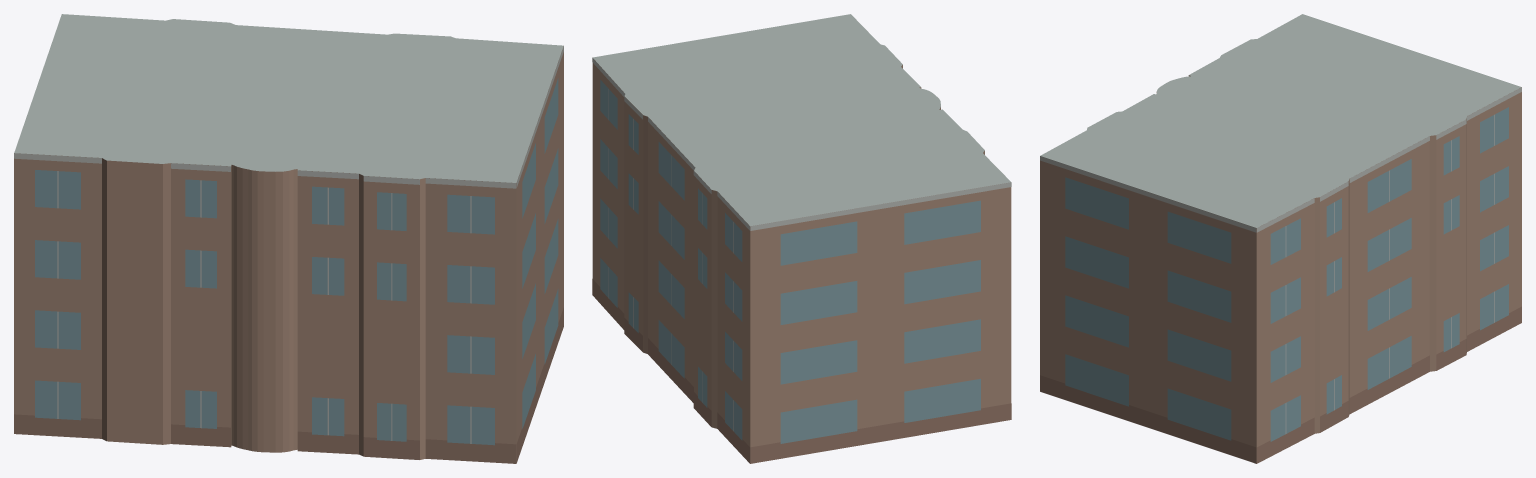
Rendered from survey-upis-32916860.glb.
3 renders of one model, left to right at view 1: azimuth 30°, elevation 25°; view 2: azimuth 150°, elevation 25°; view 3: azimuth 270°, elevation 25°, orthographic. The views are drawn at different scales.
Parts seen in each view (by area): view 1: survey-upis-32916860.tmp; view 2: survey-upis-32916860.tmp; view 3: survey-upis-32916860.tmp.
Part boxes in pixels (box(x1,y1,x2,y2)): survey-upis-32916860.tmp: box(14, 14, 563, 463); survey-upis-32916860.tmp: box(592, 14, 1011, 463); survey-upis-32916860.tmp: box(1040, 14, 1521, 463).
Size of the model in its own units: 23.56 by 12.1 by 22.41.
